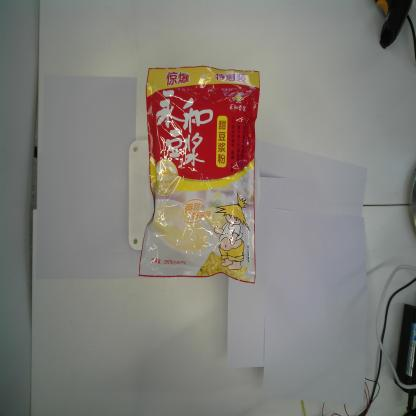Instant Drink: (136, 66, 260, 286)
